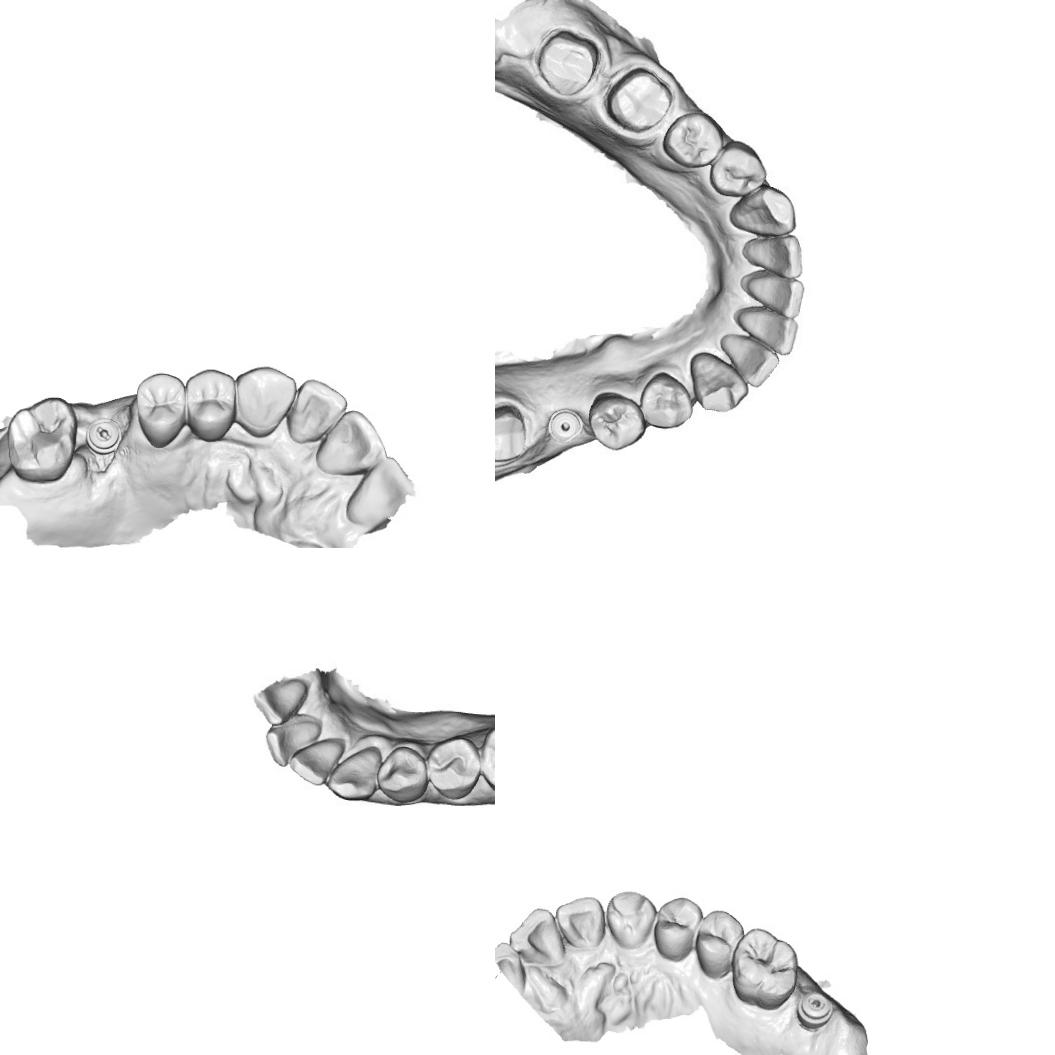canine: (234, 364, 298, 436), (686, 348, 748, 416), (726, 185, 796, 243), (604, 889, 659, 950), (328, 750, 382, 804)
crown: (602, 64, 674, 134), (533, 28, 602, 98), (495, 400, 529, 467)
implant: (547, 406, 584, 446)
implant_minus: (792, 988, 834, 1032), (84, 415, 124, 457)
incisor: (344, 453, 420, 528), (313, 408, 386, 479), (282, 376, 348, 448), (507, 906, 567, 966), (739, 270, 804, 323), (729, 308, 798, 357), (718, 332, 780, 386), (262, 717, 320, 770), (737, 234, 804, 279), (554, 895, 606, 950), (252, 677, 307, 725), (290, 740, 339, 786)
molar: (2, 394, 80, 484), (730, 926, 799, 1012)
premolar: (130, 370, 188, 451), (184, 367, 238, 444), (706, 139, 769, 198), (694, 909, 746, 980), (424, 732, 478, 800), (587, 392, 646, 454), (662, 110, 724, 168), (652, 896, 705, 963), (638, 369, 694, 430), (374, 744, 425, 809)
